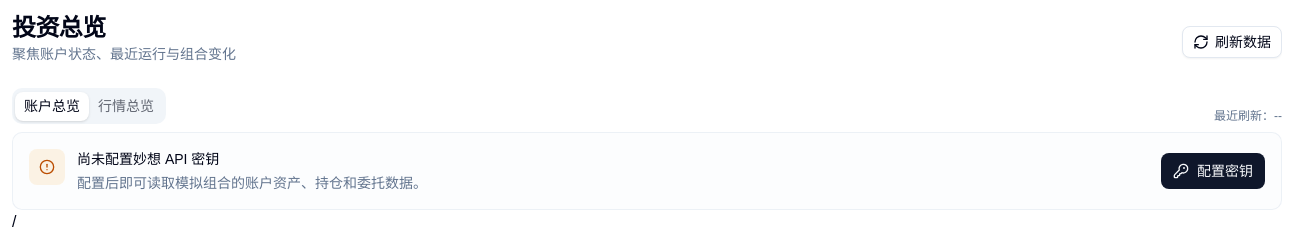
it: DashboardPage › prompts for the MX key without requesting account data
expect the text "尚未配置妙想 API 密钥" is shown: met, box [77,151,219,167]
expect the text "配置后即可读取模拟组合的账户资产、持仓和委托数据。" is shown: met, box [77,173,427,193]
Click the link "配置密钥".
click(1213, 171)  # box [1161,153,1265,189]
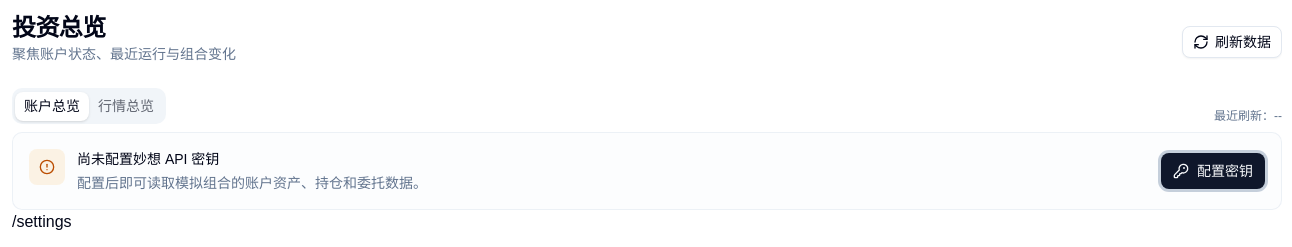
expect the text with test id "location" reads "/settings": met, box [12,213,72,230]
